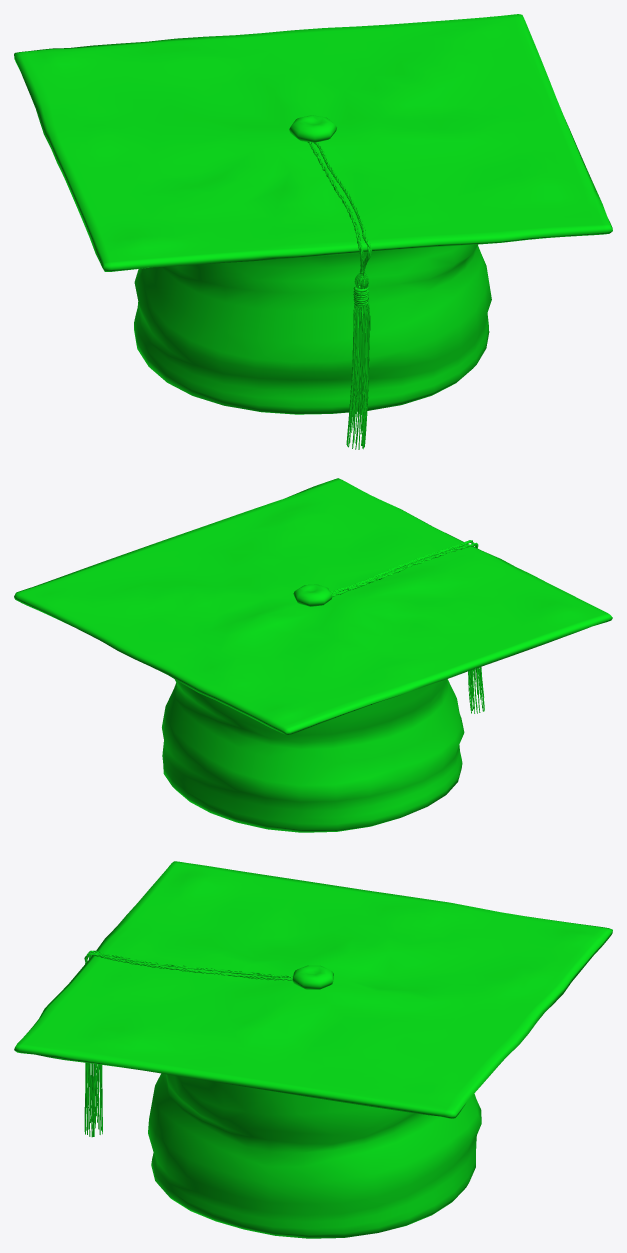
Rendered from Academic.001.fbx.
3 renders of one model, top to bottom at view 1: azimuth 30°, elevation 25°; view 2: azimuth 150°, elevation 25°; view 3: azimuth 270°, elevation 25°, orthographic. The views are drawn at different scales.
Parts seen in each view (by area): view 1: Academic.001; view 2: Academic.001; view 3: Academic.001.
Part boxes in pixels (x1,y1,x2,y2): Academic.001: (14,14,612,449); Academic.001: (14,478,612,832); Academic.001: (14,861,612,1238).
Size of the model in its own units: 8717 by 3211 by 8700.
